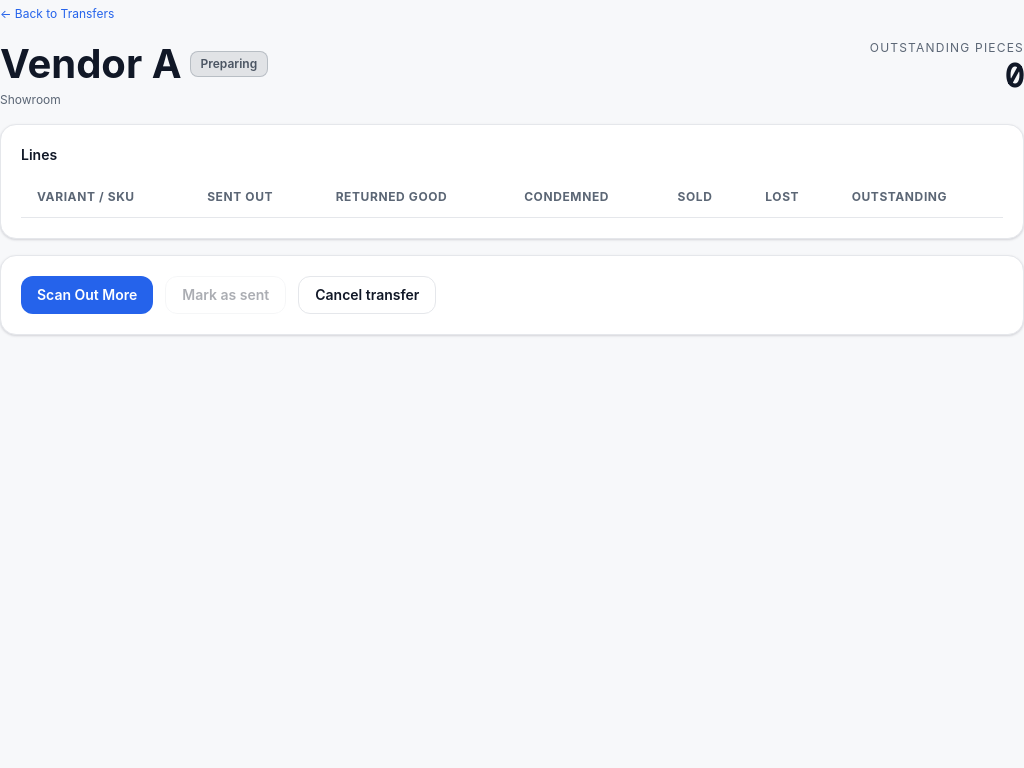
Test: Transfer detail — mark as sent and cancel › lc12 — a refused cancel shows the plain server message inside the dialog
The image size is (1024, 768).
Click the button "Cancel transfer" at [367, 295], box [298, 276, 436, 314]
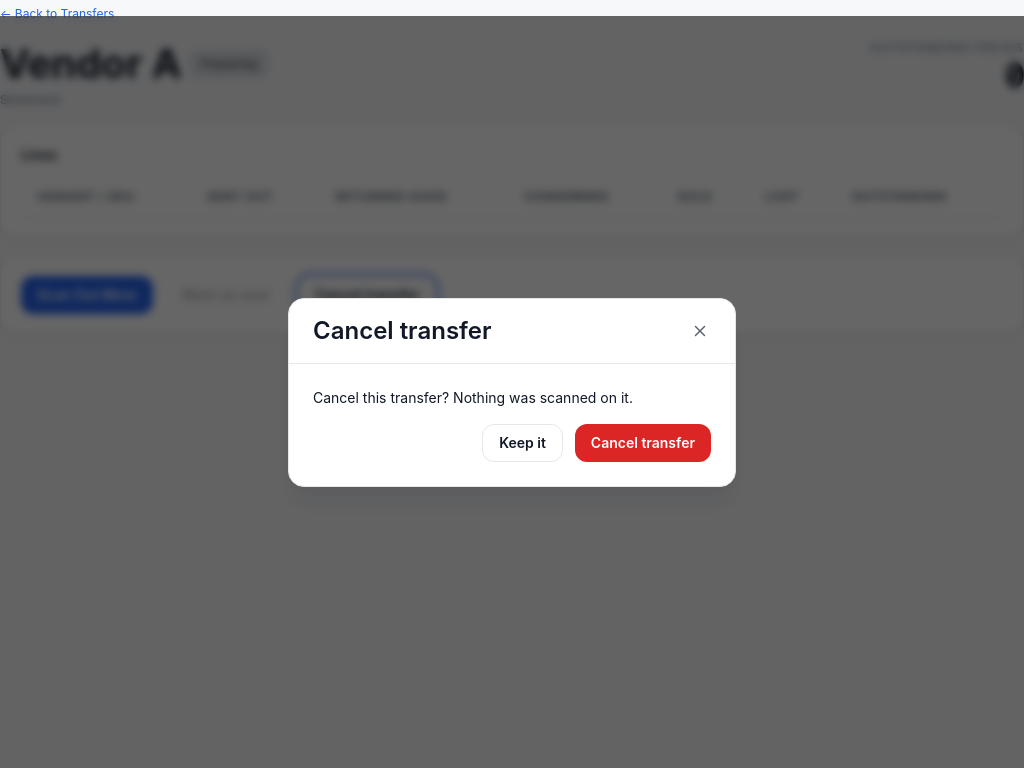
Click the button "Cancel transfer" at [643, 442], box [575, 424, 711, 462]
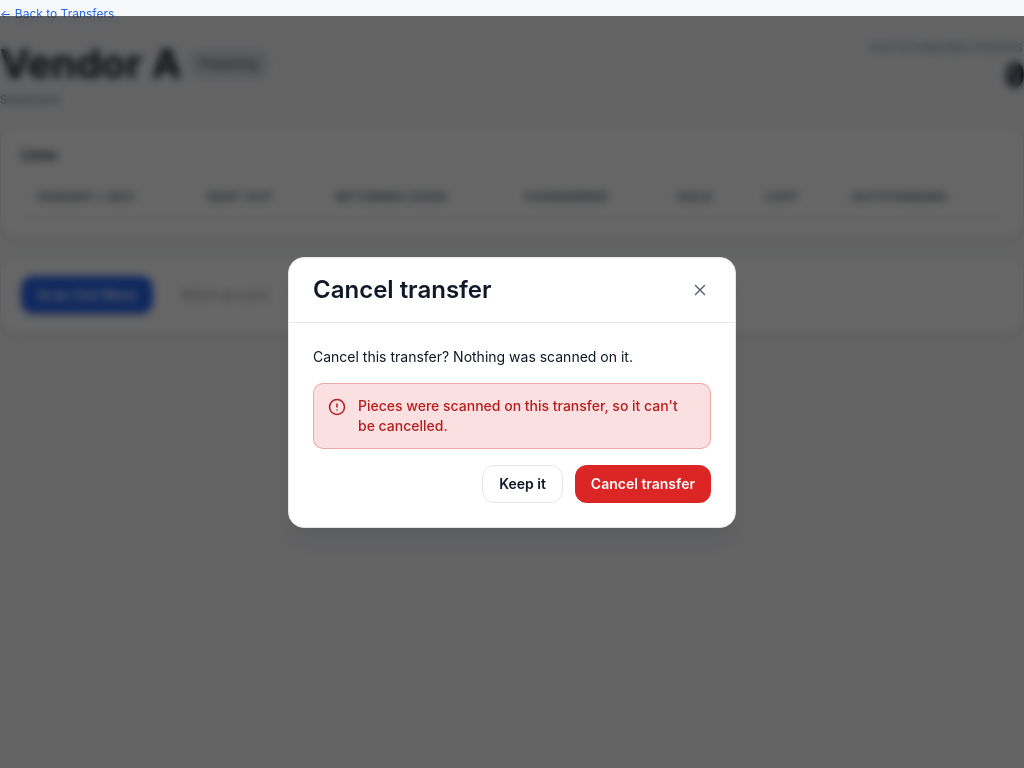
Now the text "Pieces were scanned on this transfer, so it can't be cancelled." is shown, box [358, 396, 696, 436]
